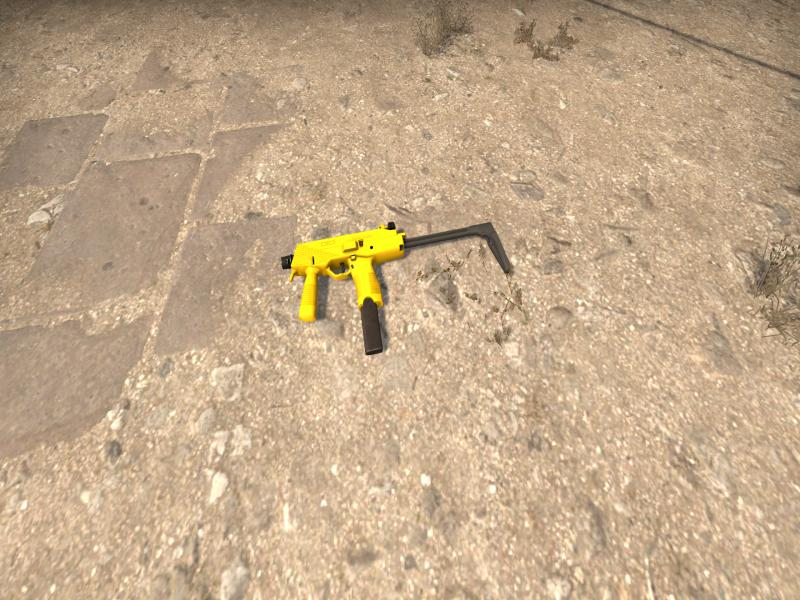MP9: (281, 221, 512, 354)
